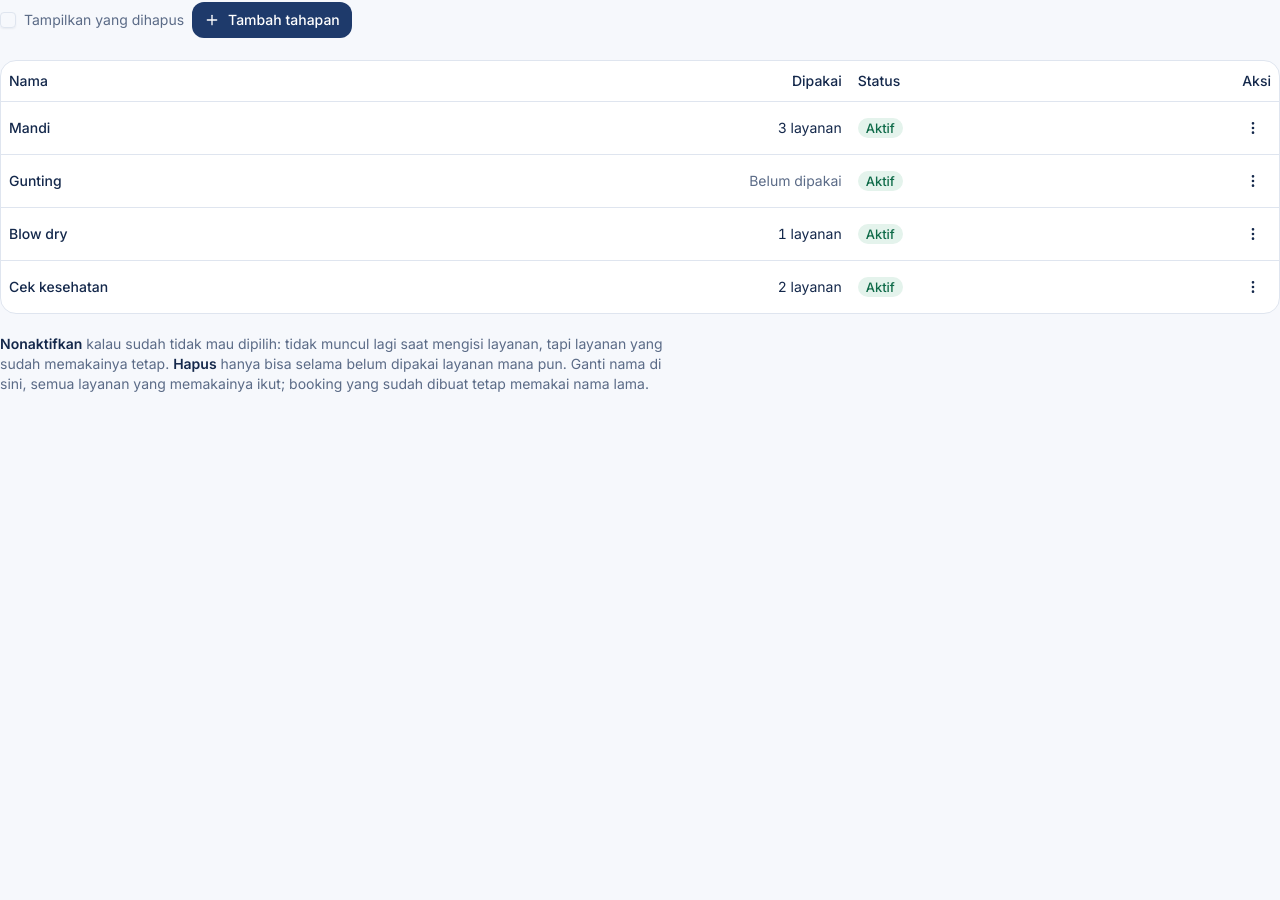
Test: ServiceStepsScreen › keeps the delete dialog open on a 409 and shows the server's count
Expected: the text "Mandi" is shown, [1, 101, 438, 154]
Step 1. Click the button named "Aksi untuk Mandi" → (1253, 128), box [1235, 110, 1271, 146]
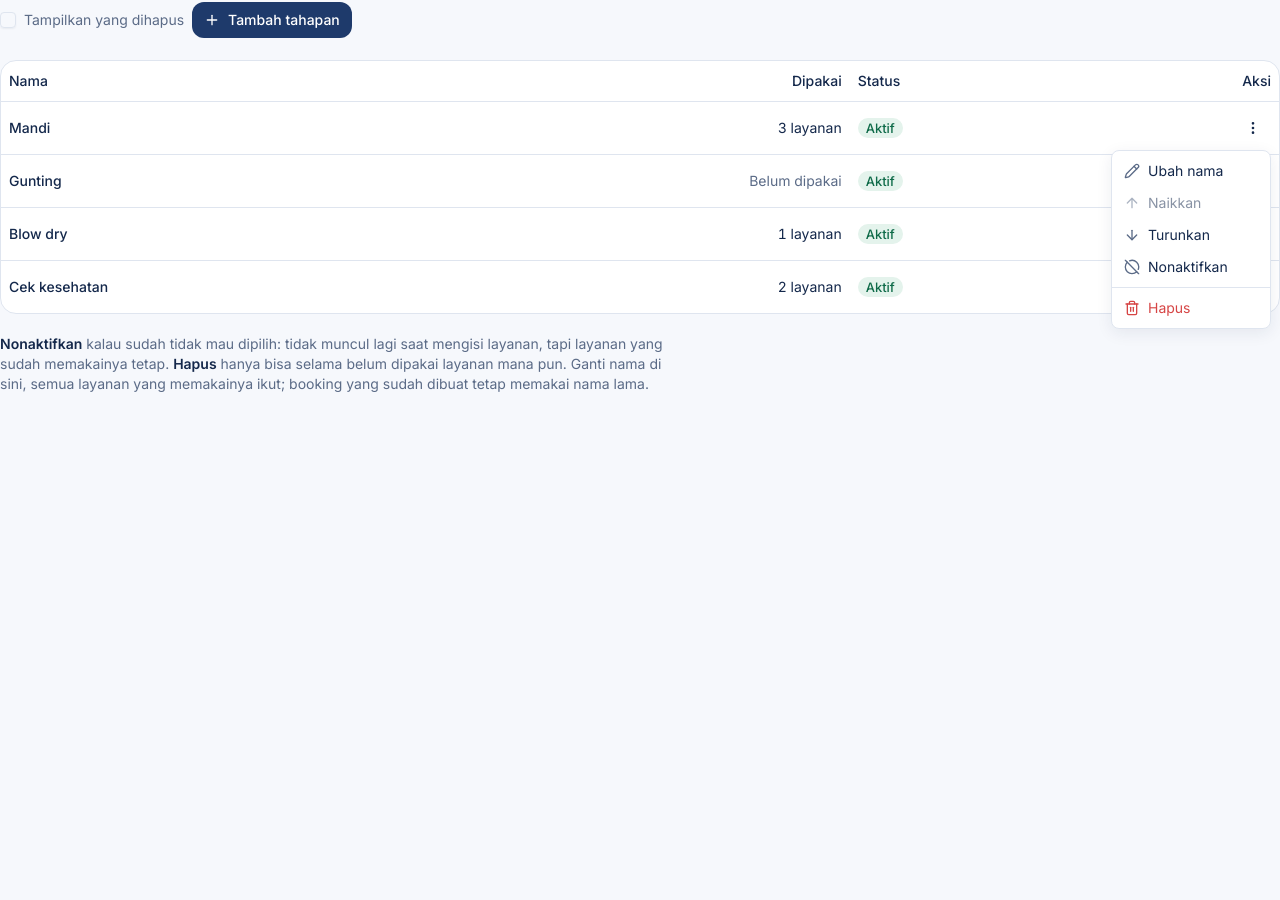
Step 2. Click the menu item "Hapus" → (1157, 308), box [1124, 299, 1190, 316]
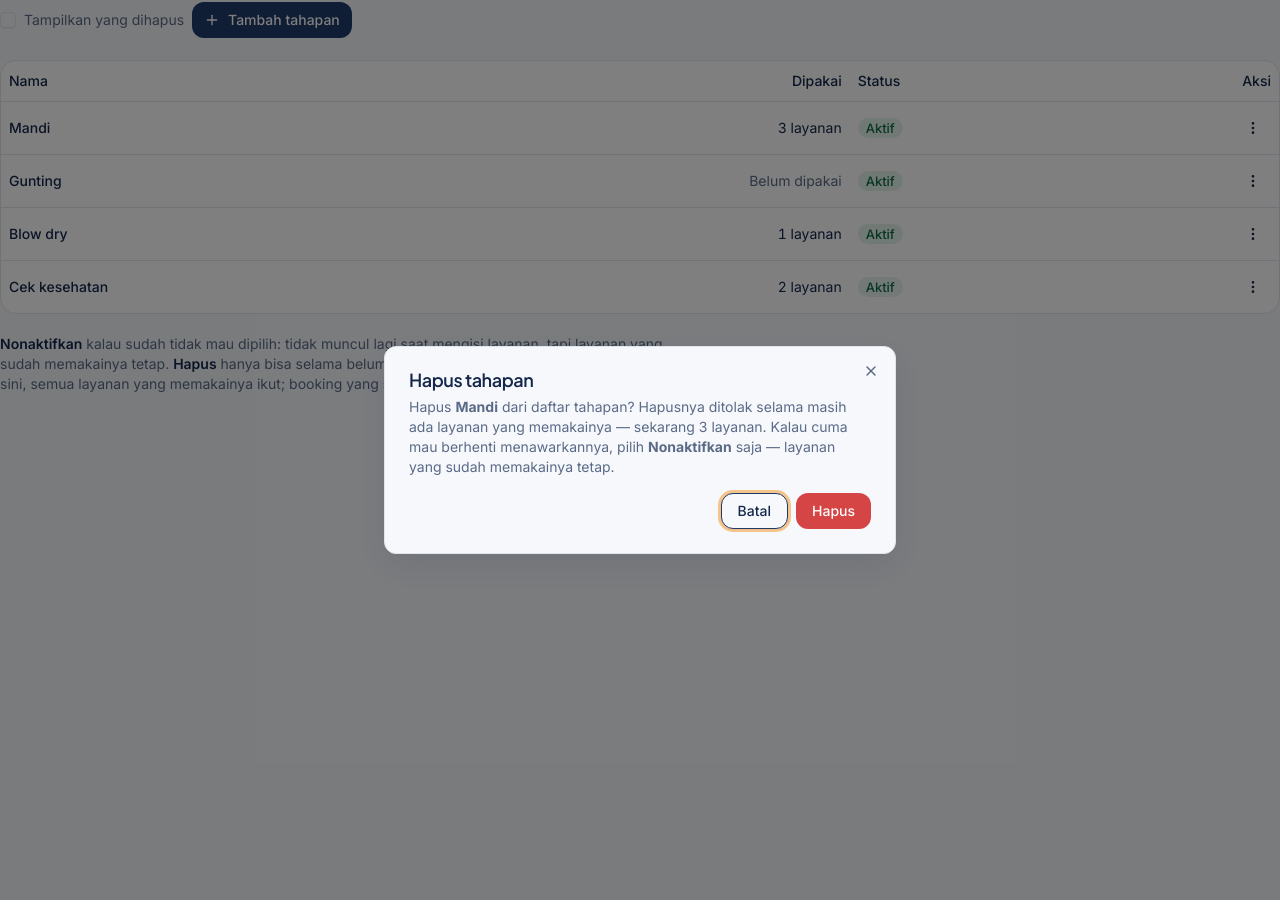
Expected: the dialog shows "ditolak selama masih ada layanan yang memakainya", [409, 398, 846, 435]
Expected: the dialog shows "sekarang 3 layanan", [612, 418, 763, 435]
Expected: the dialog shows "Nonaktifkan", [648, 438, 732, 455]
Step 3. Click the button "Hapus" → (834, 511), box [796, 493, 871, 529]
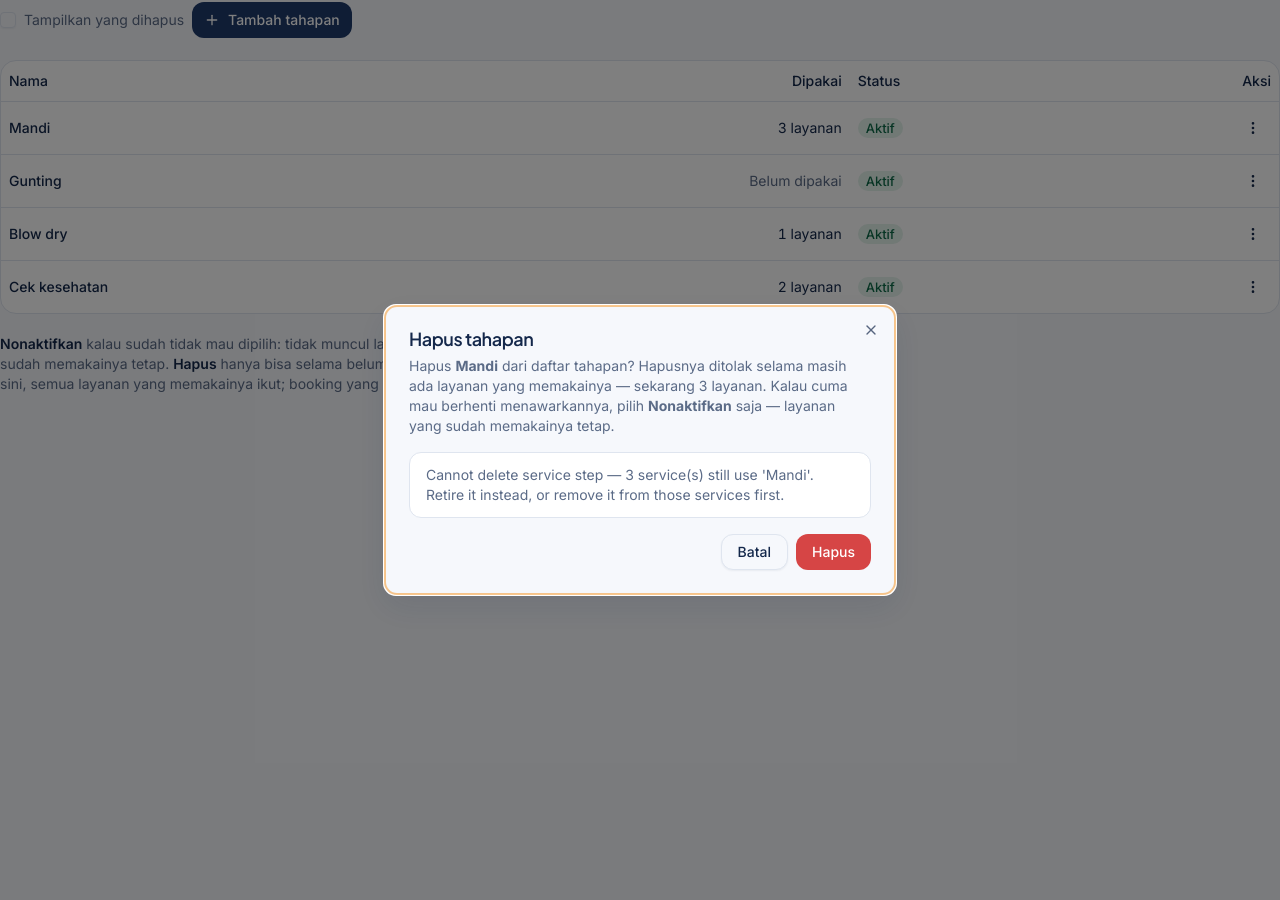
Expected: the text "3 service(s) still use 'Mandi'" is shown, [426, 466, 814, 503]
